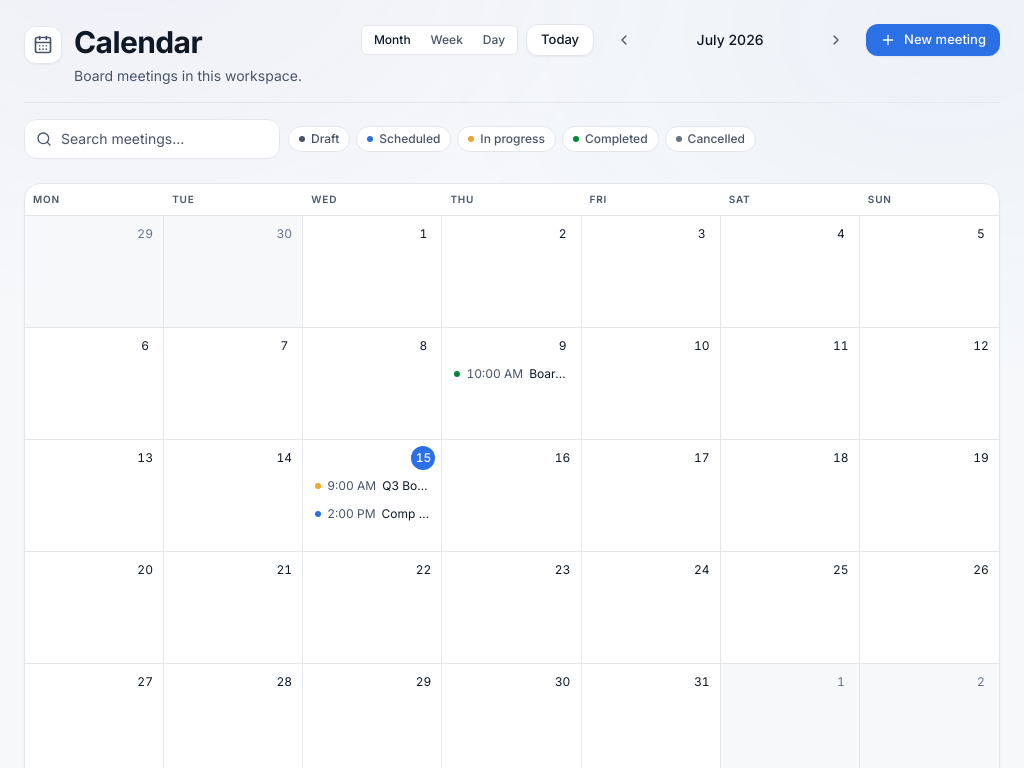
Test: period navigation is view-aware › moves one day in day view
The image size is (1024, 768).
Expected: the button "9:00 AM Q3 Board Meeting" is shown, x1=309 y1=474 x2=435 y2=498
Click the button "day" at {"x": 494, "y": 40}, box x1=473 y1=28 x2=515 y2=52
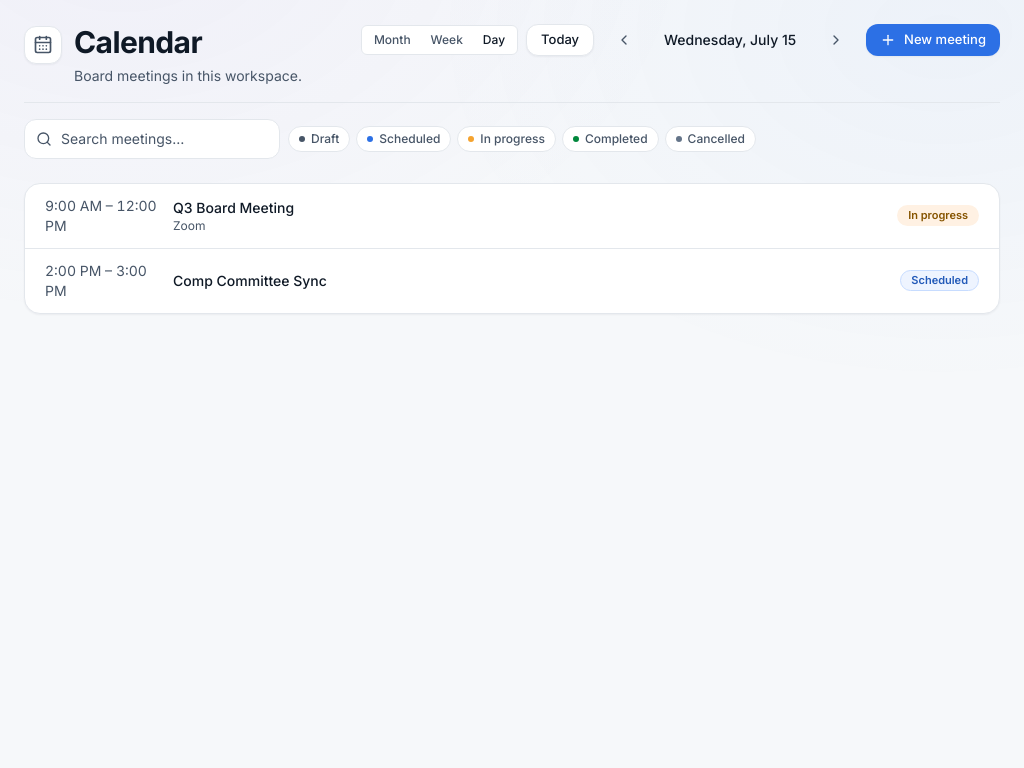
Expected: the text "Q3 Board Meeting" is shown, x1=173 y1=198 x2=294 y2=216
Click the button named "Next" at {"x": 836, "y": 40}, box x1=814 y1=24 x2=858 y2=56
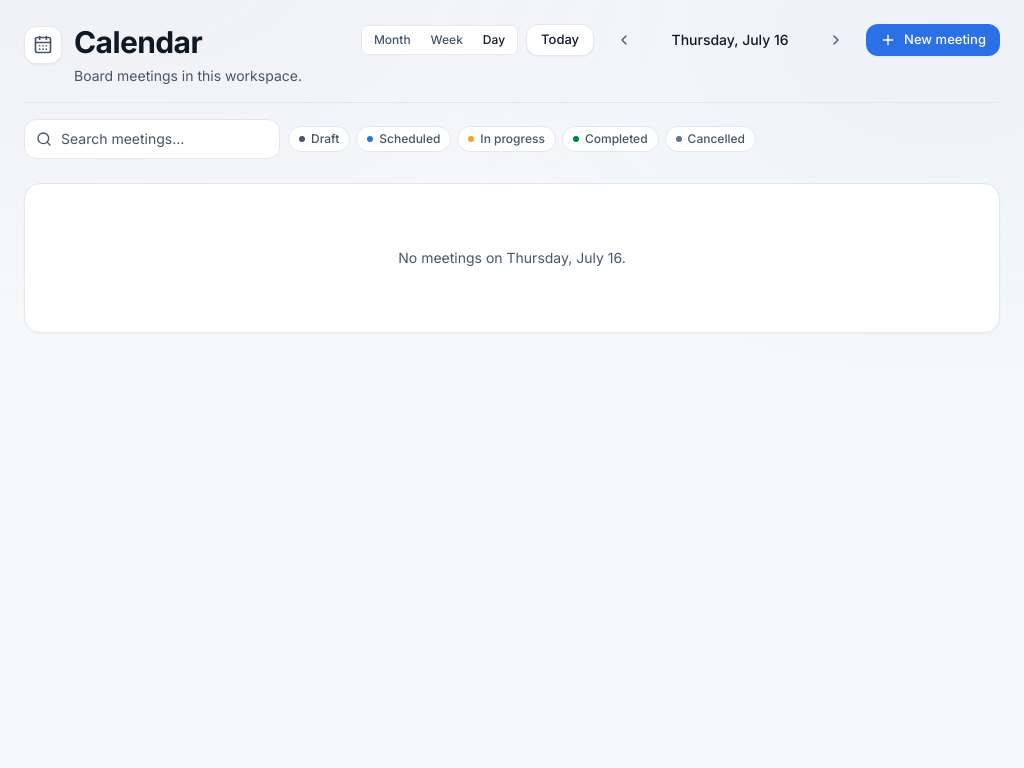
Result: the text "No meetings on Thursday, July 16." is shown at x1=398 y1=248 x2=626 y2=266
Result: the button "Q3 Board Meeting" is gone
